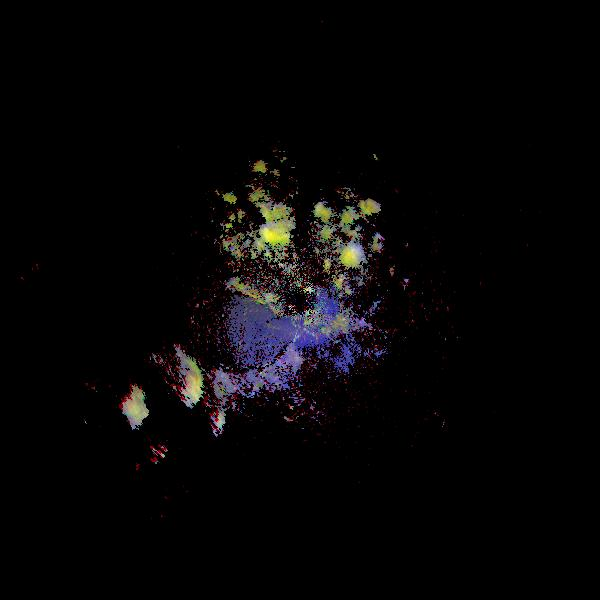roost: (175, 386, 232, 443), (156, 355, 210, 409), (100, 380, 151, 431)
